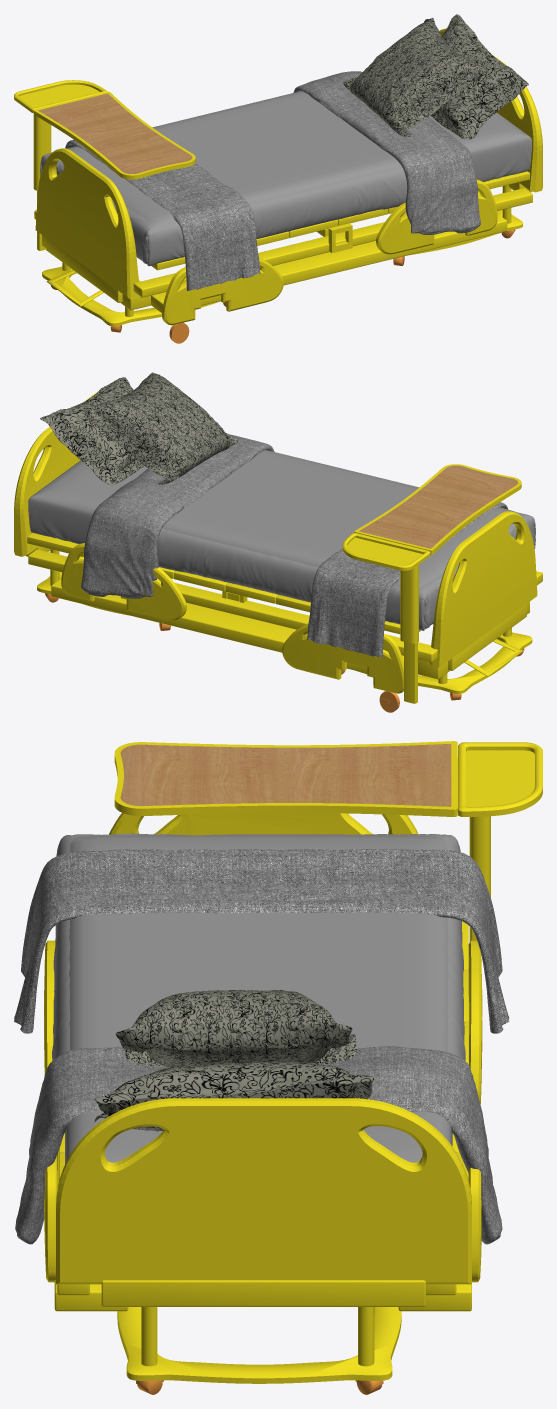
Rendered from bed.FBX.
The picture shows the model from 3 angles, top to bottom: view 1: azimuth 30°, elevation 25°; view 2: azimuth 150°, elevation 25°; view 3: azimuth 270°, elevation 25°; orthographic projection. The views are drawn at different scales.
Parts seen in each view (by area): view 1: bed01; view 2: bed01; view 3: bed01.
Boxes of the visible parts, x1,y1,x2,y2 form: bed01: (14, 14, 542, 343); bed01: (14, 372, 542, 712); bed01: (14, 741, 542, 1394).
Bounding box in the file's own units: 2231 × 947 × 1297.
